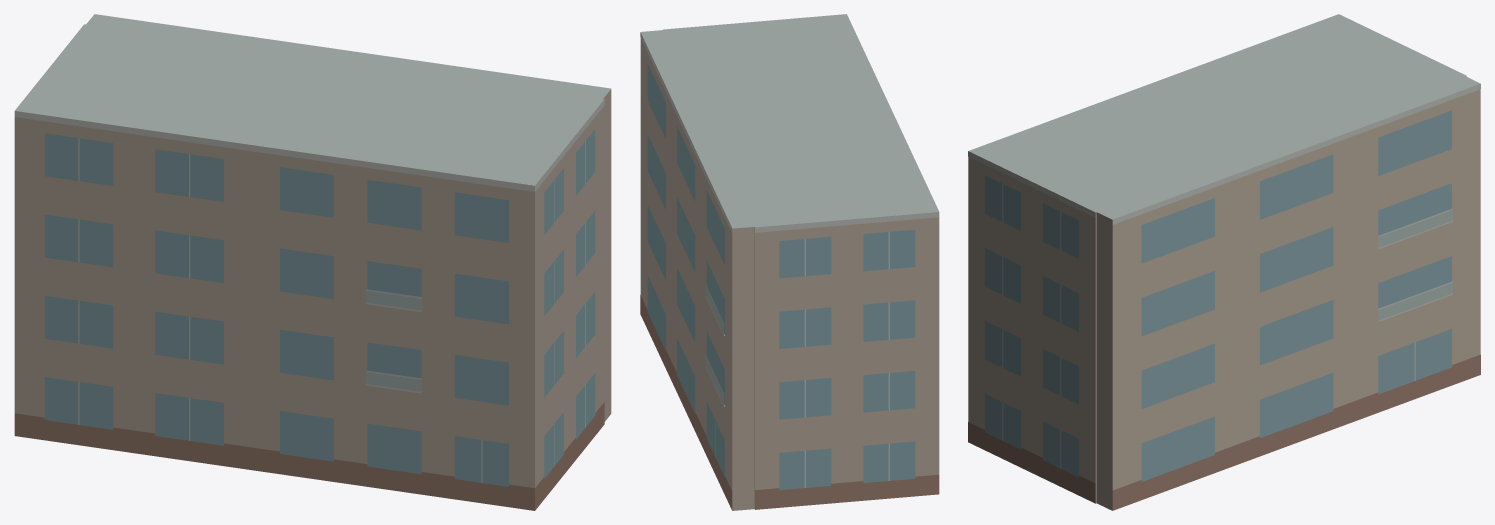
File: survey-upis-32615225.glb
3 renders of one model, left to right at view 1: azimuth 30°, elevation 25°; view 2: azimuth 150°, elevation 25°; view 3: azimuth 270°, elevation 25°, orthographic. The views are drawn at different scales.
Parts seen in each view (by area): view 1: survey-upis-32615225.tmp; view 2: survey-upis-32615225.tmp; view 3: survey-upis-32615225.tmp.
Boxes of the visible parts, bbox=[...] form: survey-upis-32615225.tmp: bbox=[14, 14, 611, 510]; survey-upis-32615225.tmp: bbox=[640, 14, 939, 510]; survey-upis-32615225.tmp: bbox=[968, 14, 1480, 510].
Size of the model in its own units: 19.55 by 12.9 by 20.59.
